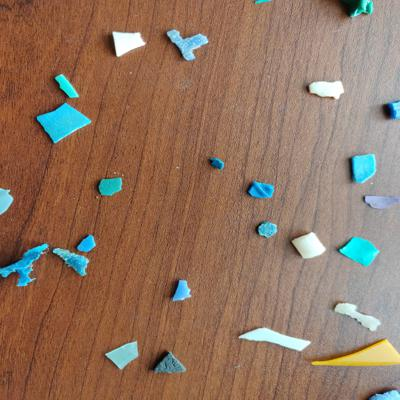plastic: (310, 335, 400, 376), (1, 238, 52, 291), (34, 103, 94, 147), (237, 323, 313, 353), (332, 296, 384, 333), (163, 24, 211, 63), (336, 231, 381, 271), (305, 72, 348, 105), (52, 245, 93, 278), (102, 339, 142, 372), (291, 230, 328, 264), (152, 348, 191, 379), (347, 153, 381, 187), (110, 28, 147, 58), (167, 275, 202, 306), (94, 173, 130, 202), (54, 72, 89, 100), (246, 175, 279, 201), (362, 193, 400, 213), (339, 1, 377, 19), (361, 386, 398, 400), (253, 220, 280, 239), (205, 154, 228, 176), (76, 233, 99, 254), (1, 187, 16, 218), (383, 99, 400, 125)
